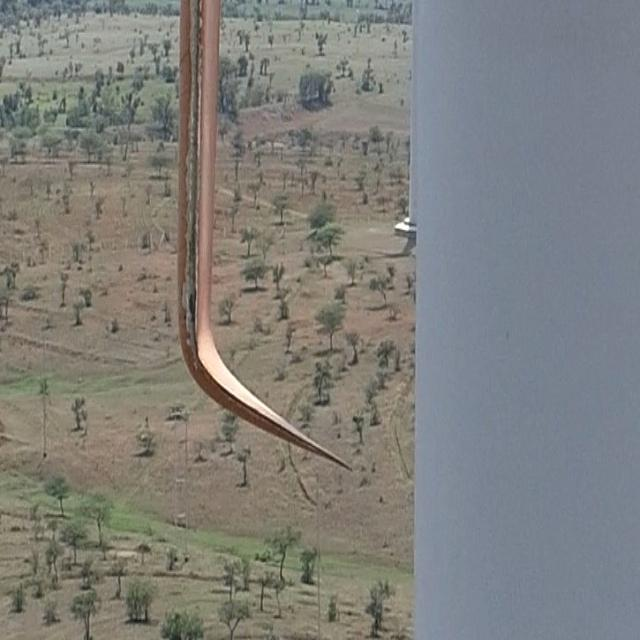EROSION: (187, 0, 209, 364)
